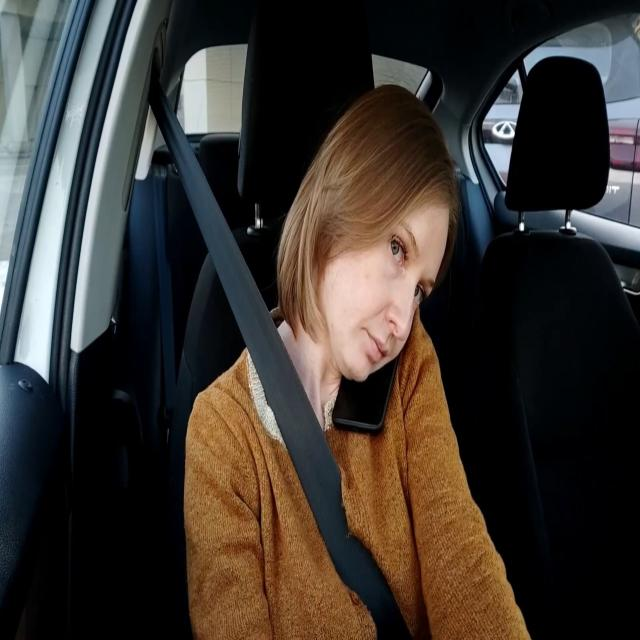phone: (331, 346, 404, 437)
